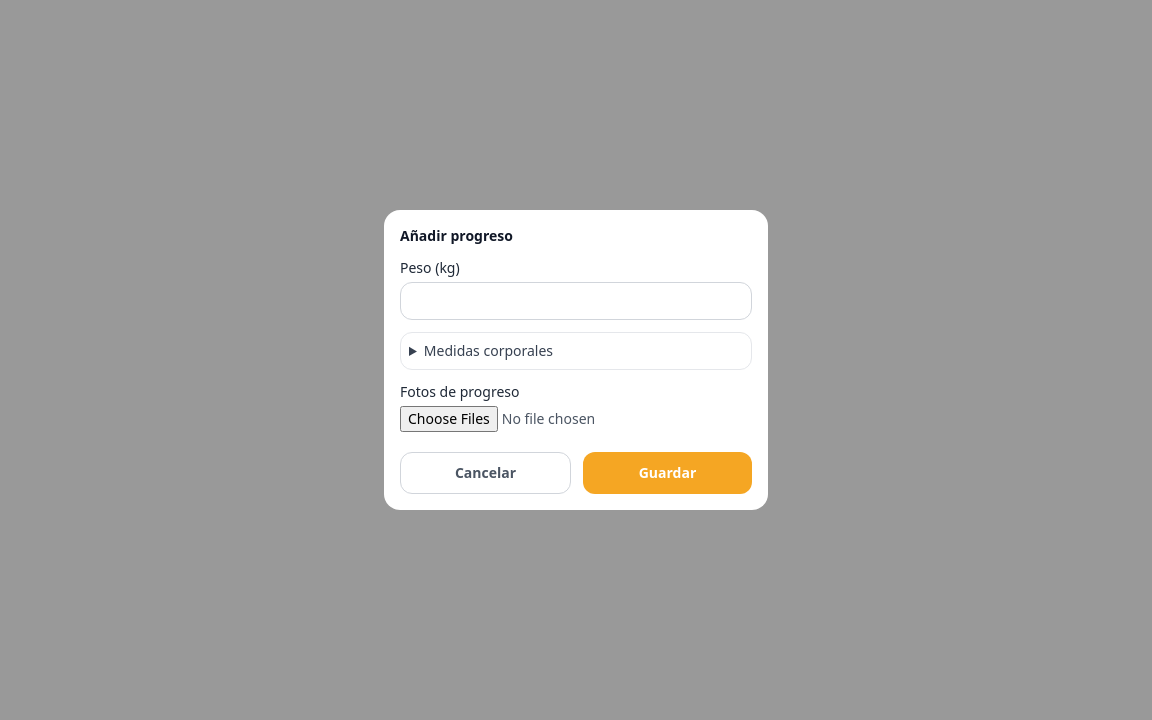
Test: ProgressEntrySheet › blocks submit and shows a validation error when all fields are empty
Click the button "Guardar". click: coordinates (668, 473)
box: x1=583 y1=452 x2=752 y2=494
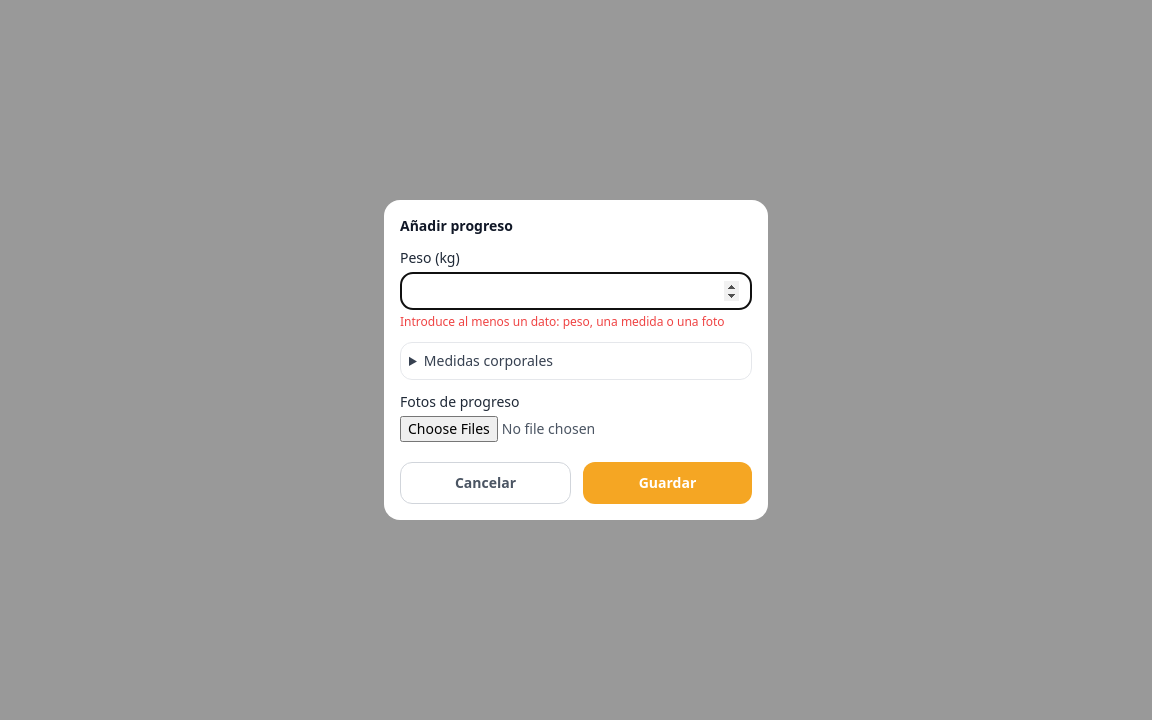
Expected: the text "Introduce al menos un dato: peso, una medida o una foto" is shown, x1=400 y1=314 x2=752 y2=330
